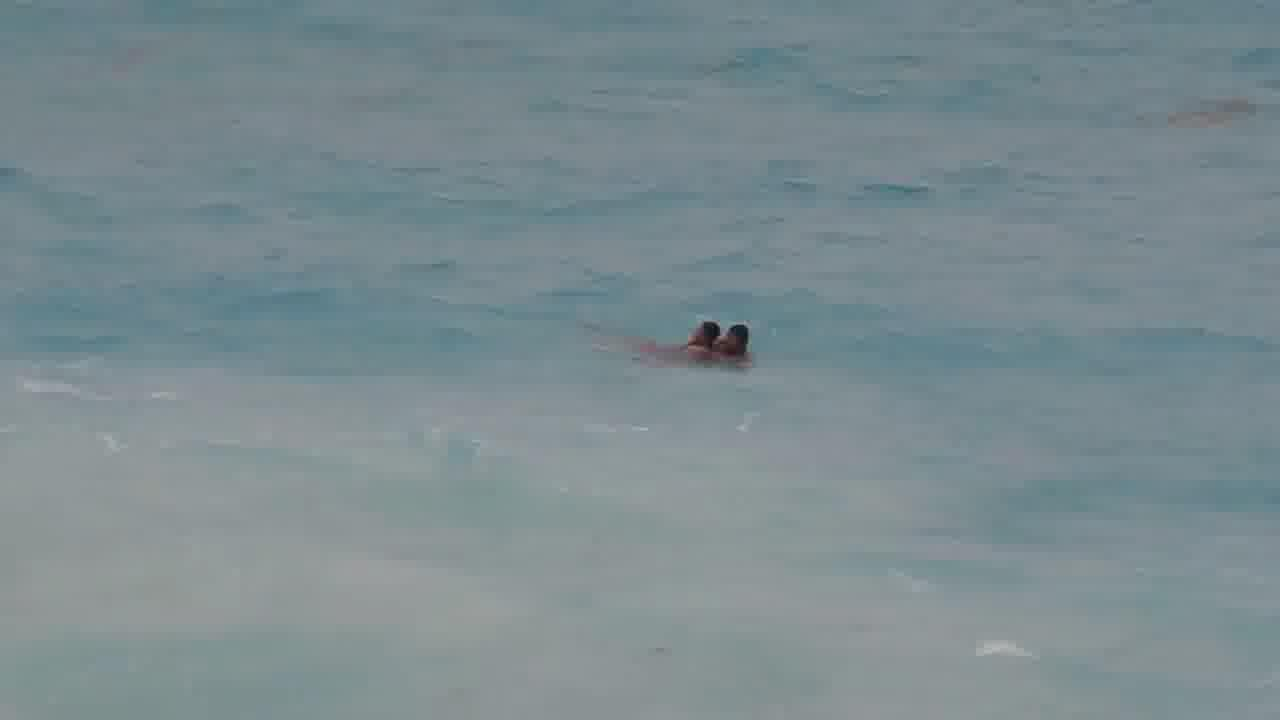human: (628, 313, 721, 359), (719, 319, 763, 359)
